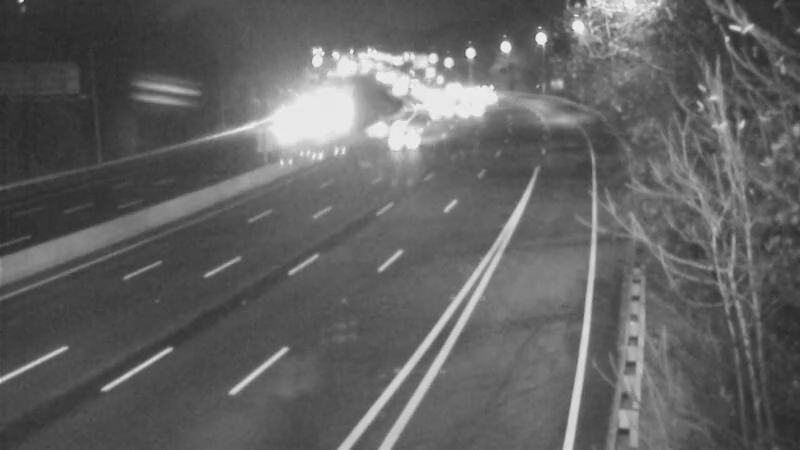vehicle: (359, 104, 409, 154), (380, 116, 430, 166)
